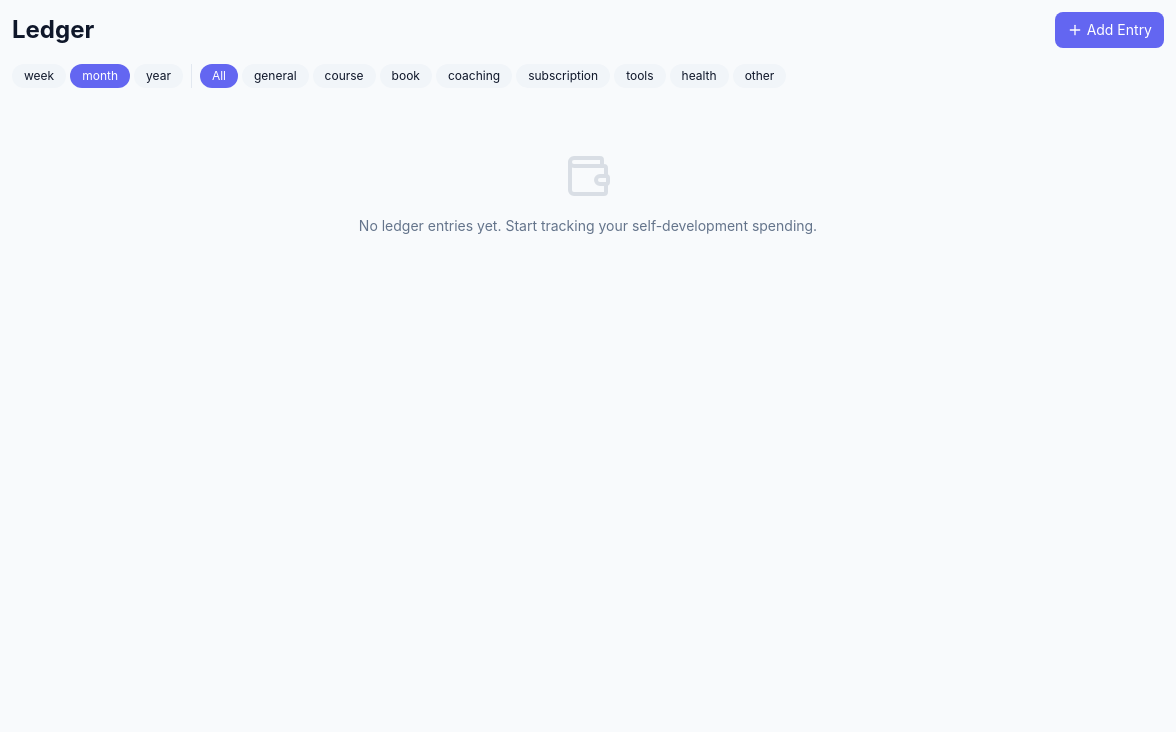
Test: Ledger › shows form when Add Entry clicked
Click the button "Add Entry": (1109, 30) [1055, 12, 1164, 48]
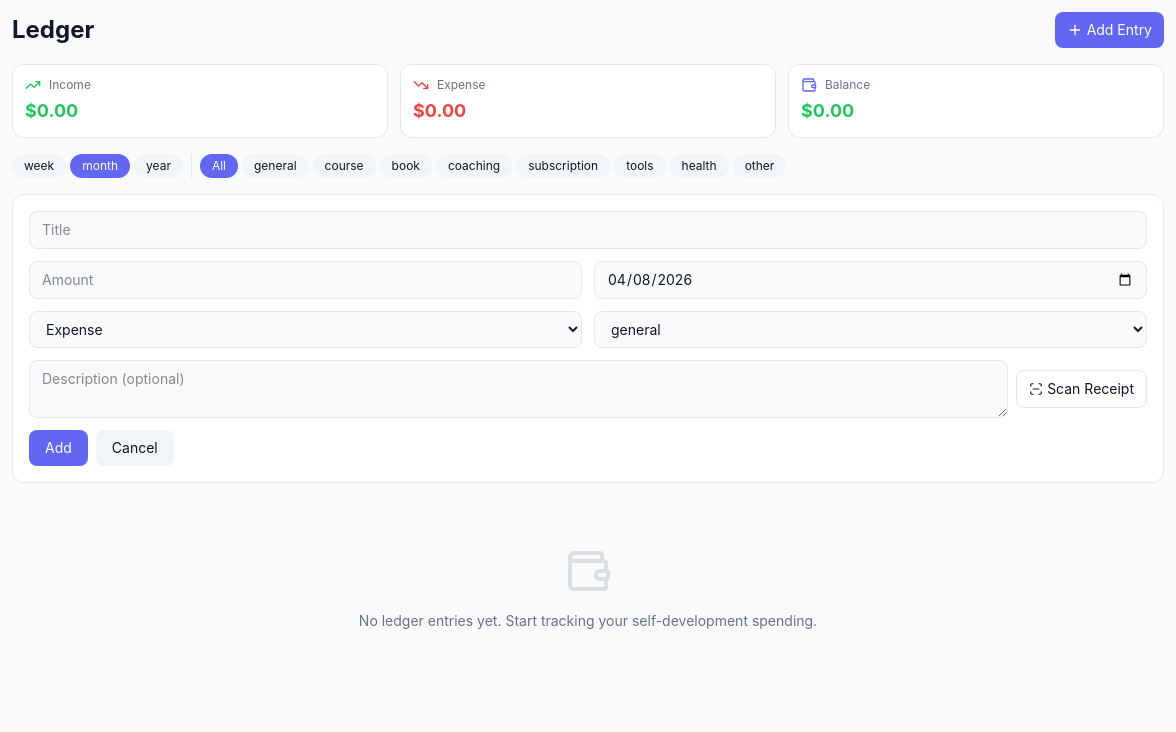
Expected: the field with placeholder "Title" is shown, [29, 211, 1147, 249]
Expected: the number field with placeholder "Amount" is shown, [29, 261, 582, 299]
Expected: the button "Add" is shown, [29, 430, 88, 466]
